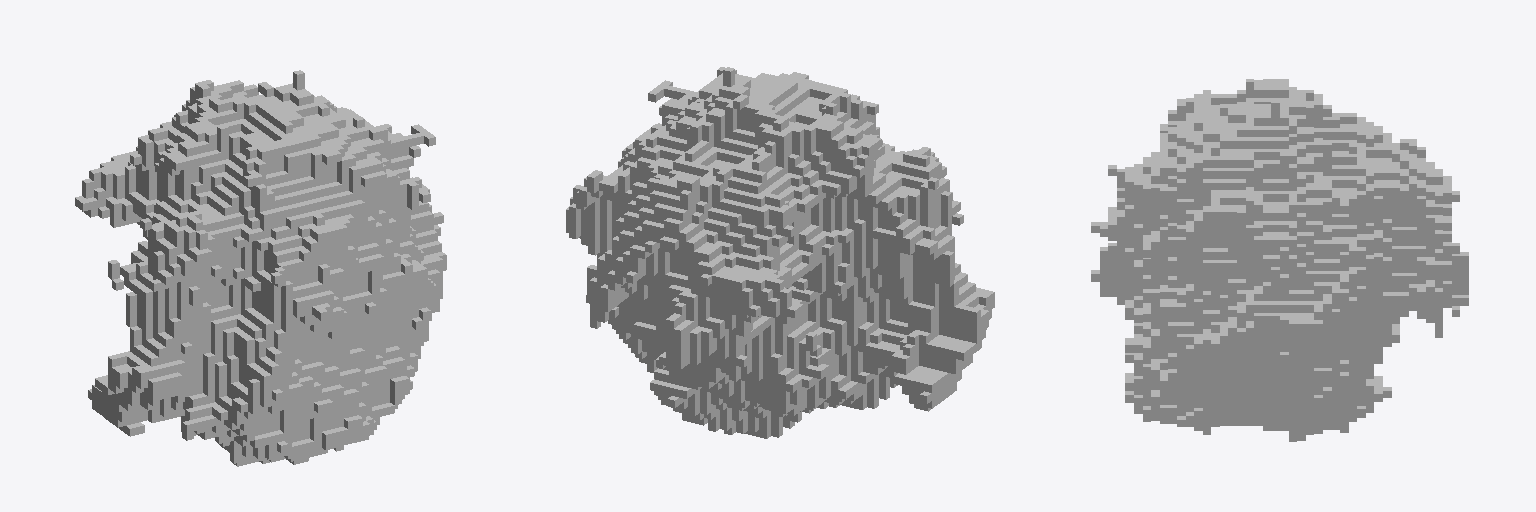
File: Asteroid 4.obj
3 views of the same model, side by side, from view 1: azimuth 30°, elevation 25°; view 2: azimuth 150°, elevation 25°; view 3: azimuth 270°, elevation 25° (orthographic).
Visible parts, largest first — view 1: object 1; view 2: object 1; view 3: object 1.
Boxes of the visible parts, x1=… form: object 1: x1=75, y1=70, x2=446, y2=466; object 1: x1=566, y1=67, x2=994, y2=438; object 1: x1=1091, y1=79, x2=1468, y2=441.
Size of the model in its own units: 4.8 by 4.5 by 4.4.